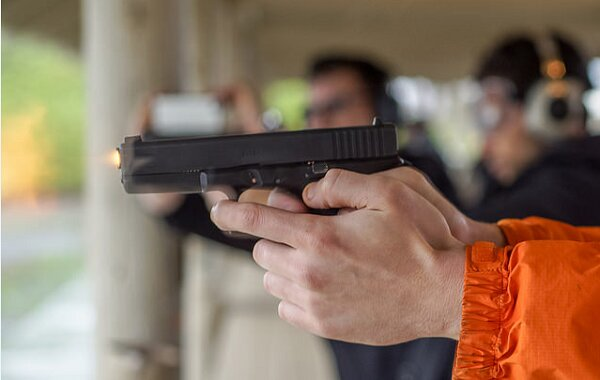pistol: (112, 115, 413, 337)
